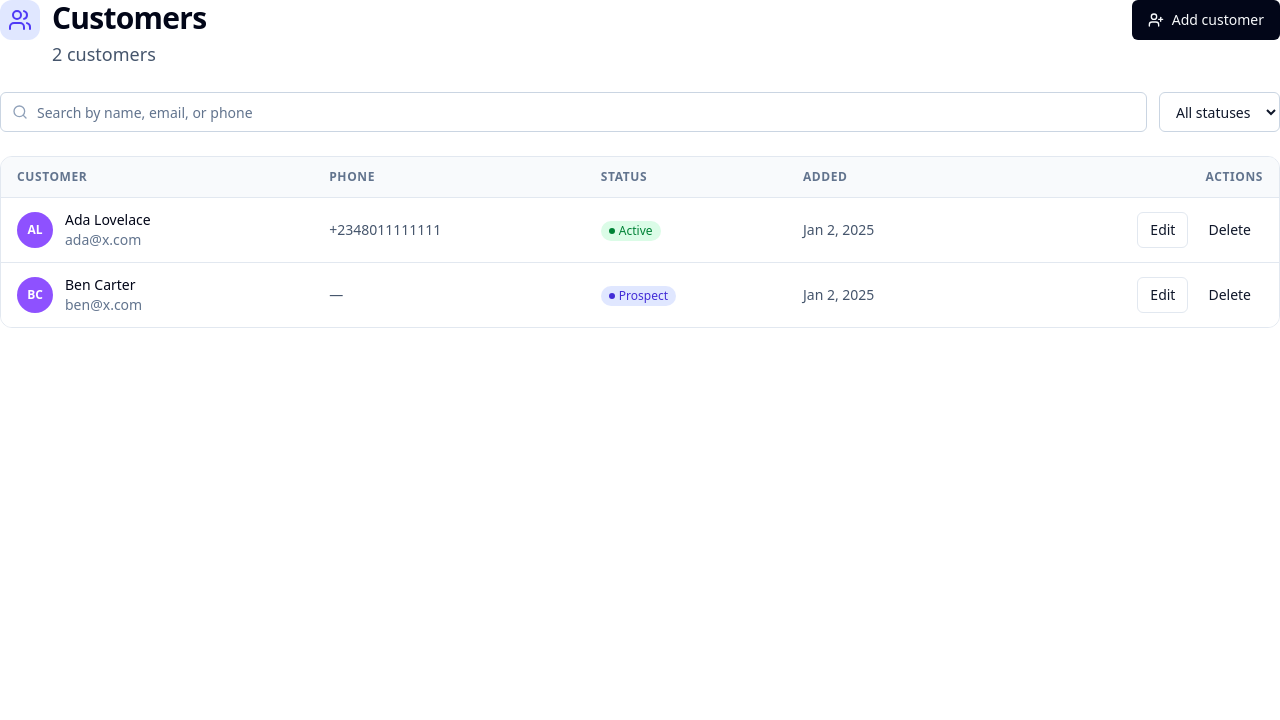
CustomersPage › requires confirmation to delete; cancel does nothing; confirm removes it
Check: the button "Ada Lovelace" is shown, box x1=65 y1=210 x2=151 y2=230
Click the button with aria-label "Delete Ada Lovelace" at (1230, 230), box x1=1196 y1=212 x2=1263 y2=248
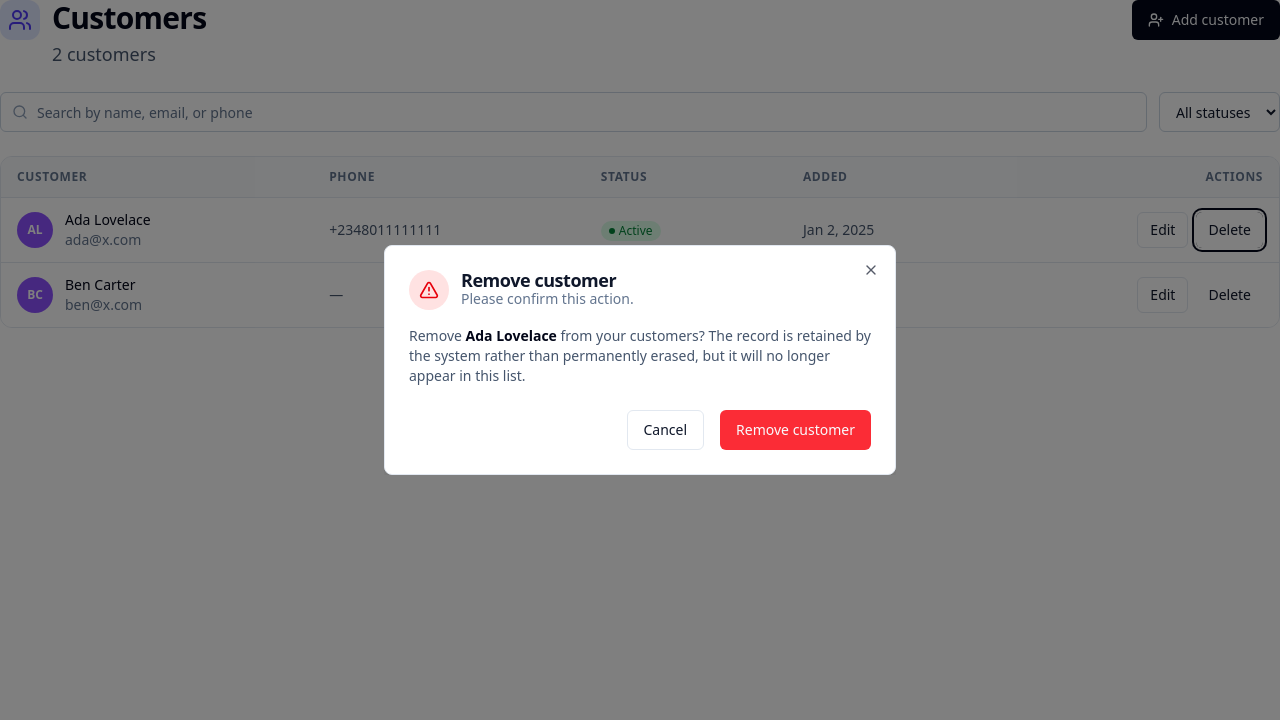
Click the button "Cancel" at (665, 430), box x1=626 y1=410 x2=704 y2=450
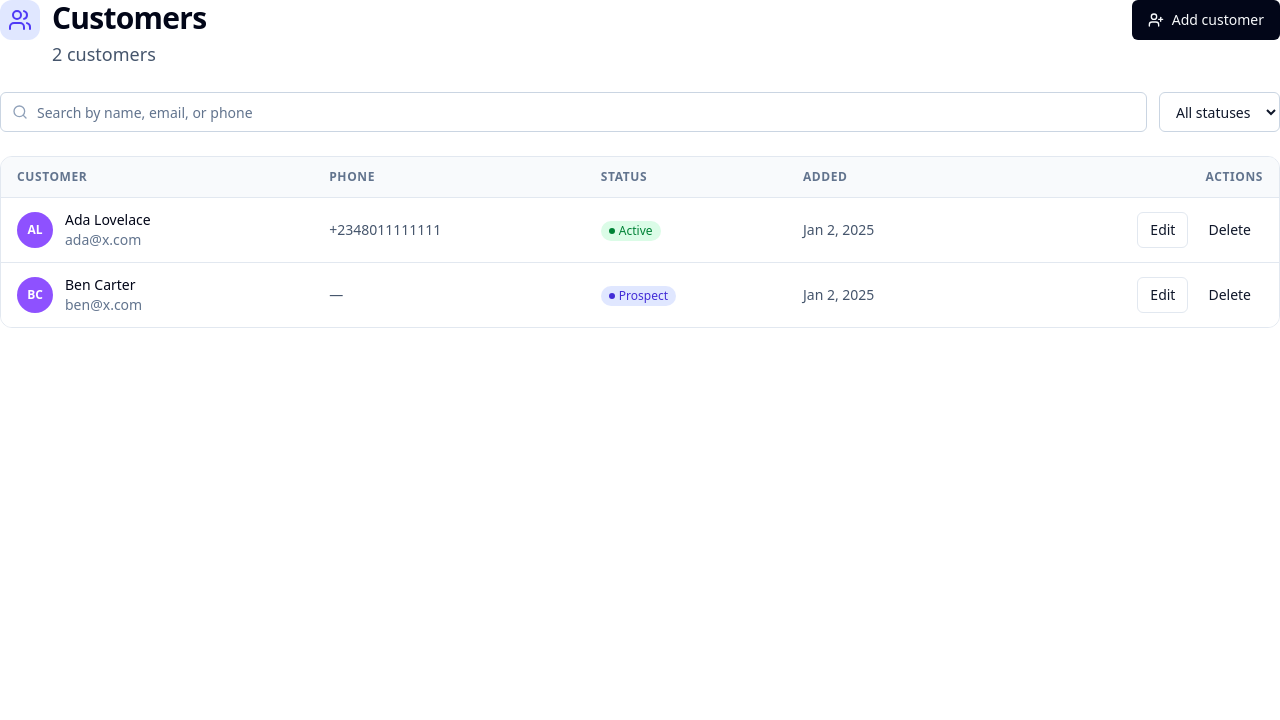
Click the button with aria-label "Delete Ada Lovelace" at (1230, 230), box x1=1196 y1=212 x2=1263 y2=248
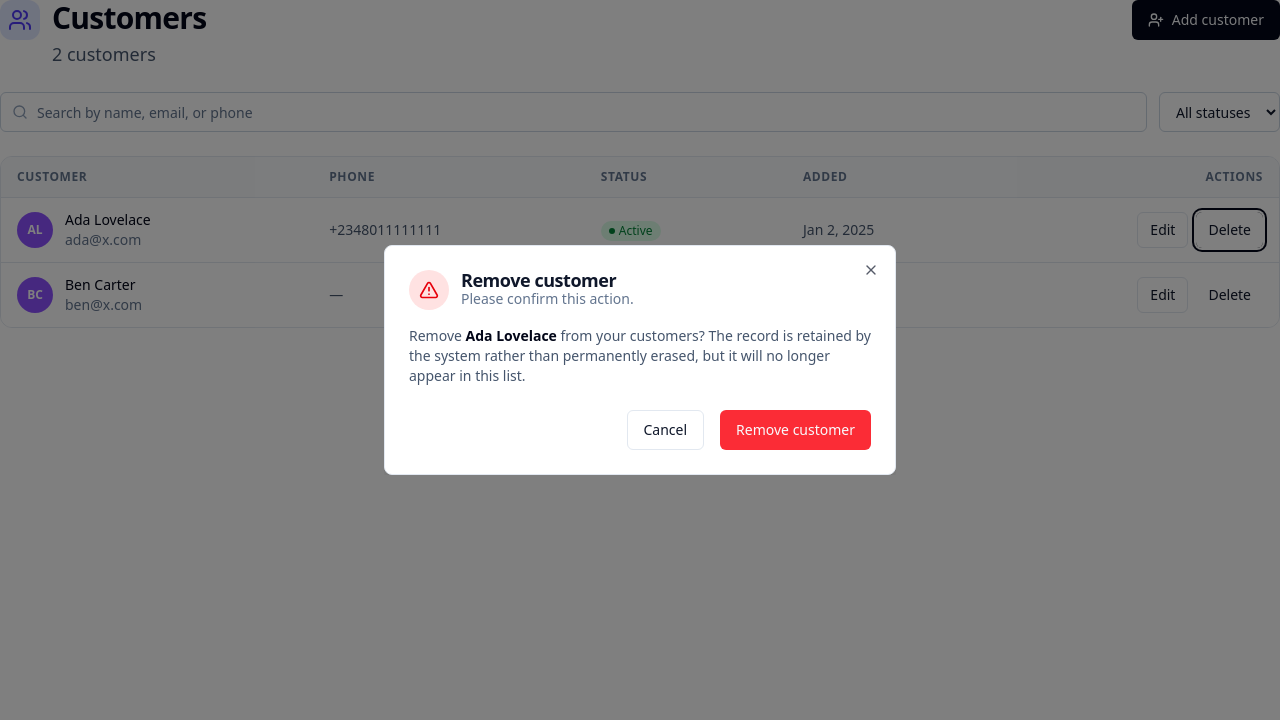
Click the button "Remove customer" at (796, 430), box x1=720 y1=410 x2=871 y2=450
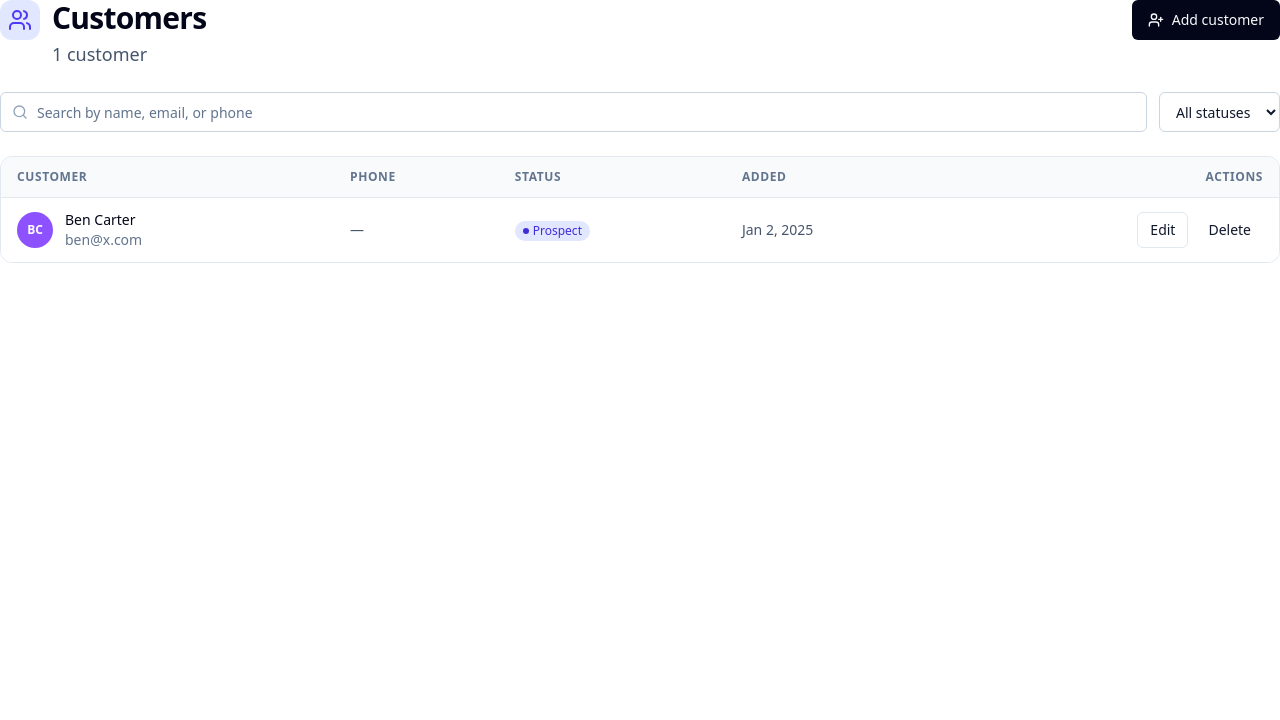
Check: the button "Ada Lovelace" is gone
